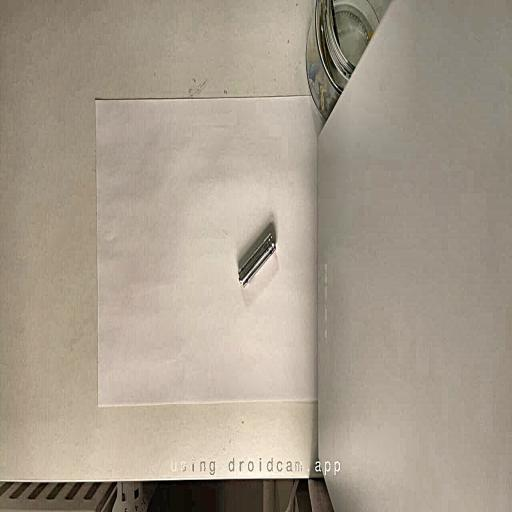RainbowAA: (239, 235, 275, 290)
